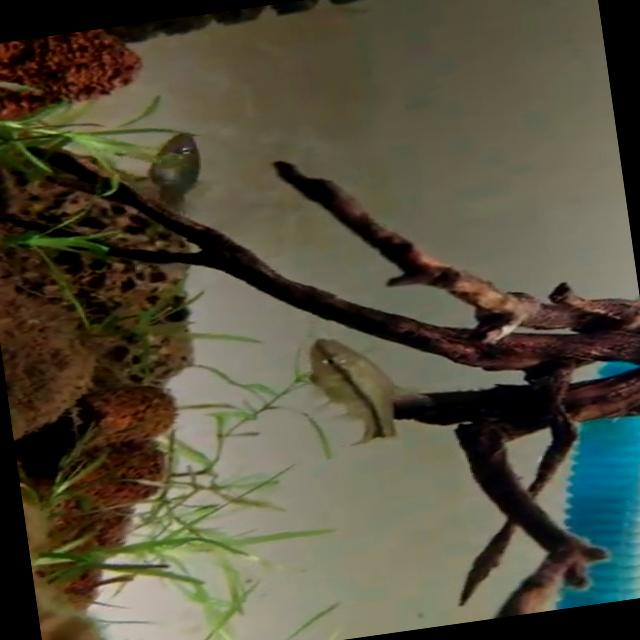Cakil Baligi: (297, 316, 433, 454)
